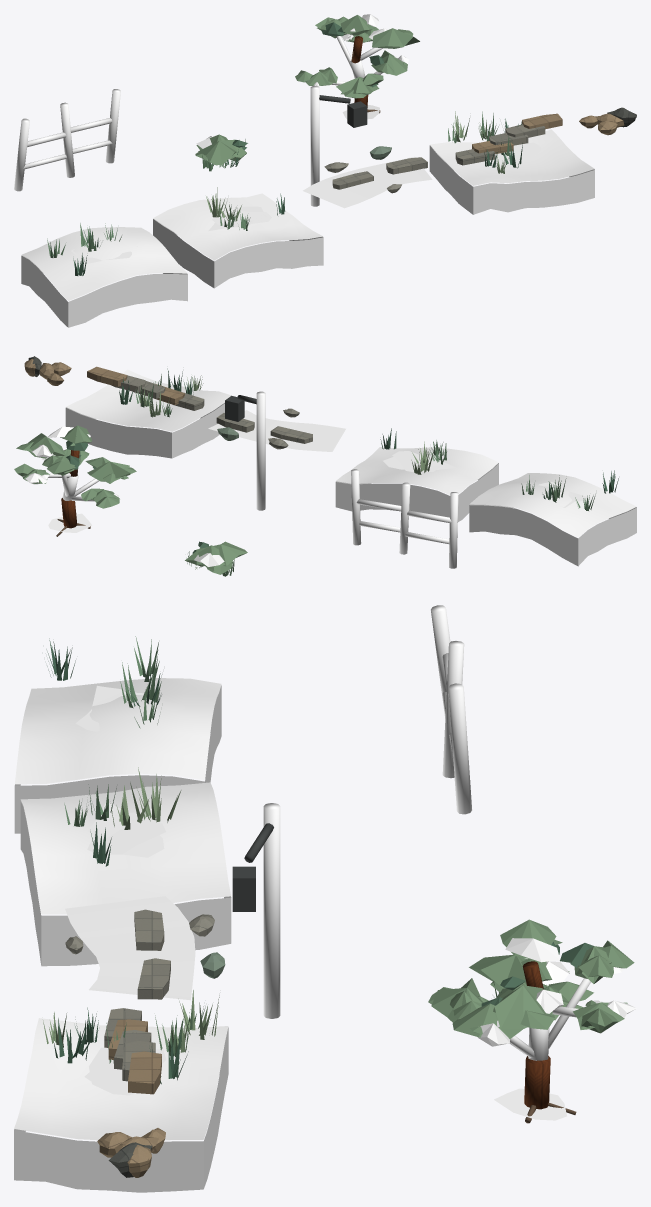
Rendered from stylized_exterior_environment_kit.glb.
3 views of the same model, one above another, from view 1: azimuth 30°, elevation 25°; view 2: azimuth 150°, elevation 25°; view 3: azimuth 270°, elevation 25° (orthographic). The views are drawn at different scales.
Parts seen in each view (by area): view 1: envkit_sculpted_meadow_tile_a_sculpted_meadow_surface, envkit_sculpted_shadow_tile_b_sculpted_meadow_surface, envkit_sculpted_meadow_tile_a_cut_earth_skirt, envkit_bank_with_embedded_steps_raised_bank_tile_cut_earth_s, envkit_sculpted_shadow_tile_b_cut_earth_skirt, envkit_bank_with_embedded_steps_raised_bank_tile_sculpted_me, envkit_curved_walked_path_tile_walked_path_surface, envkit_lamp_post_module_dark_wood_post, envkit_story_tree_module_connected_canopy_mass_02_core, envkit_splitrail_module_weathered_post_01, envkit_splitrail_module_weathered_post_02, envkit_splitrail_module_weathered_post_03 (+7 smaller); view 2: envkit_sculpted_meadow_tile_a_sculpted_meadow_surface, envkit_sculpted_meadow_tile_a_cut_earth_skirt, envkit_bank_with_embedded_steps_raised_bank_tile_cut_earth_s, envkit_sculpted_shadow_tile_b_sculpted_meadow_surface, envkit_bank_with_embedded_steps_raised_bank_tile_sculpted_me, envkit_sculpted_shadow_tile_b_cut_earth_skirt, envkit_curved_walked_path_tile_walked_path_surface, envkit_lamp_post_module_dark_wood_post, envkit_splitrail_module_weathered_post_01, envkit_splitrail_module_weathered_post_03, envkit_splitrail_module_weathered_post_02, envkit_bank_with_embedded_steps_irregular_climb_step_05 (+12 smaller); view 3: envkit_sculpted_shadow_tile_b_sculpted_meadow_surface, envkit_sculpted_meadow_tile_a_sculpted_meadow_surface, envkit_bank_with_embedded_steps_raised_bank_tile_sculpted_me, envkit_bank_with_embedded_steps_raised_bank_tile_cut_earth_s, envkit_curved_walked_path_tile_walked_path_surface, envkit_sculpted_shadow_tile_b_cut_earth_skirt, envkit_lamp_post_module_dark_wood_post, envkit_sculpted_meadow_tile_a_cut_earth_skirt, envkit_splitrail_module_weathered_post_03, envkit_sculpted_shadow_tile_b_cool_shadow_corner, envkit_story_tree_module_connected_canopy_mass_02_core, envkit_splitrail_module_weathered_post_02 (+14 smaller).
Part boxes in pixels (x1,y1,x2,y2): envkit_sculpted_meadow_tile_a_sculpted_meadow_surface: (22,227,187,300); envkit_sculpted_shadow_tile_b_sculpted_meadow_surface: (153,193,323,260); envkit_sculpted_meadow_tile_a_cut_earth_skirt: (21,255,187,327); envkit_bank_with_embedded_steps_raised_bank_tile_cut_earth_s: (429,145,594,214); envkit_sculpted_shadow_tile_b_cut_earth_skirt: (153,218,323,288); envkit_bank_with_embedded_steps_raised_bank_tile_sculpted_me: (430,129,594,185); envkit_curved_walked_path_tile_walked_path_surface: (303,156,432,208); envkit_lamp_post_module_dark_wood_post: (310,85,319,206); envkit_story_tree_module_connected_canopy_mass_02_core: (372,28,419,48); envkit_splitrail_module_weathered_post_01: (14,118,29,191); envkit_splitrail_module_weathered_post_02: (60,102,74,177); envkit_splitrail_module_weathered_post_03: (105,89,120,163); envkit_sculpted_meadow_tile_a_sculpted_meadow_surface: (470,473,636,537); envkit_sculpted_meadow_tile_a_cut_earth_skirt: (469,504,636,566); envkit_bank_with_embedded_steps_raised_bank_tile_cut_earth_s: (65,403,224,458); envkit_sculpted_shadow_tile_b_sculpted_meadow_surface: (336,447,498,494); envkit_bank_with_embedded_steps_raised_bank_tile_sculpted_me: (66,369,232,431); envkit_sculpted_shadow_tile_b_cut_earth_skirt: (335,463,498,521); envkit_curved_walked_path_tile_walked_path_surface: (208,410,345,451); envkit_lamp_post_module_dark_wood_post: (256,391,265,510); envkit_splitrail_module_weathered_post_01: (449,492,458,568); envkit_splitrail_module_weathered_post_03: (351,469,361,545); envkit_splitrail_module_weathered_post_02: (399,482,410,554); envkit_bank_with_embedded_steps_irregular_climb_step_05: (87,366,127,386); envkit_sculpted_shadow_tile_b_sculpted_meadow_surface: (20,782,230,914); envkit_sculpted_meadow_tile_a_sculpted_meadow_surface: (15,678,221,784); envkit_bank_with_embedded_steps_raised_bank_tile_sculpted_me: (14,1018,228,1140); envkit_bank_with_embedded_steps_raised_bank_tile_cut_earth_s: (14,1027,228,1192); envkit_curved_walked_path_tile_walked_path_surface: (65,896,195,1000); envkit_sculpted_shadow_tile_b_cut_earth_skirt: (20,801,231,966); envkit_lamp_post_module_dark_wood_post: (263,803,280,1018); envkit_sculpted_meadow_tile_a_cut_earth_skirt: (14,685,221,833); envkit_splitrail_module_weathered_post_03: (448,683,471,814); envkit_sculpted_shadow_tile_b_cool_shadow_corner: (87,812,165,854); envkit_story_tree_module_connected_canopy_mass_02_core: (493,985,552,1029); envkit_splitrail_module_weathered_post_02: (442,641,464,778).
Size of the model in its own units: 7.96 by 1.58 by 4.05.
Materials: 24 (5 with a texture image).
